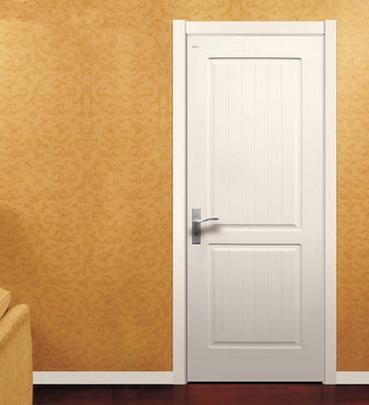door: (176, 24, 336, 383)
